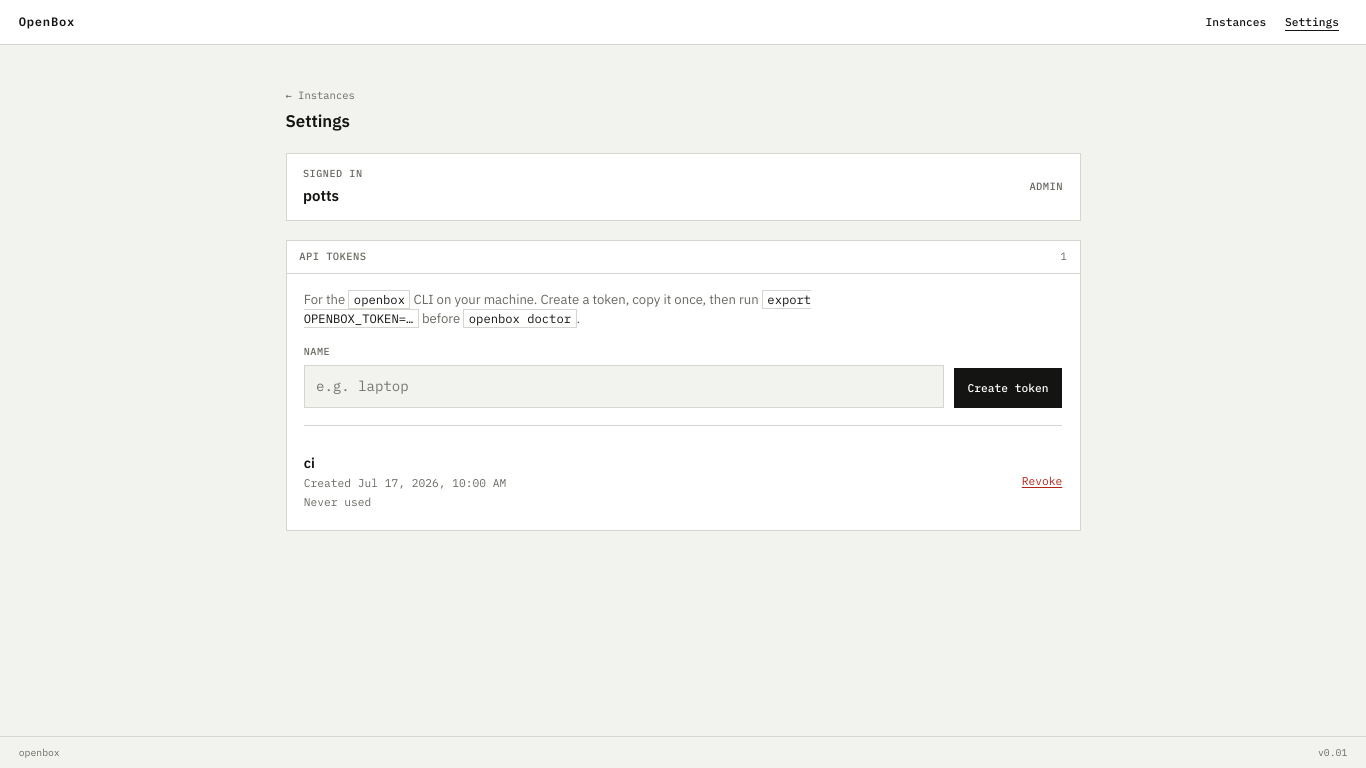
SettingsPage › revokes a listed token after confirm
Click the button "Revoke": (1042, 481) [1022,473,1062,490]
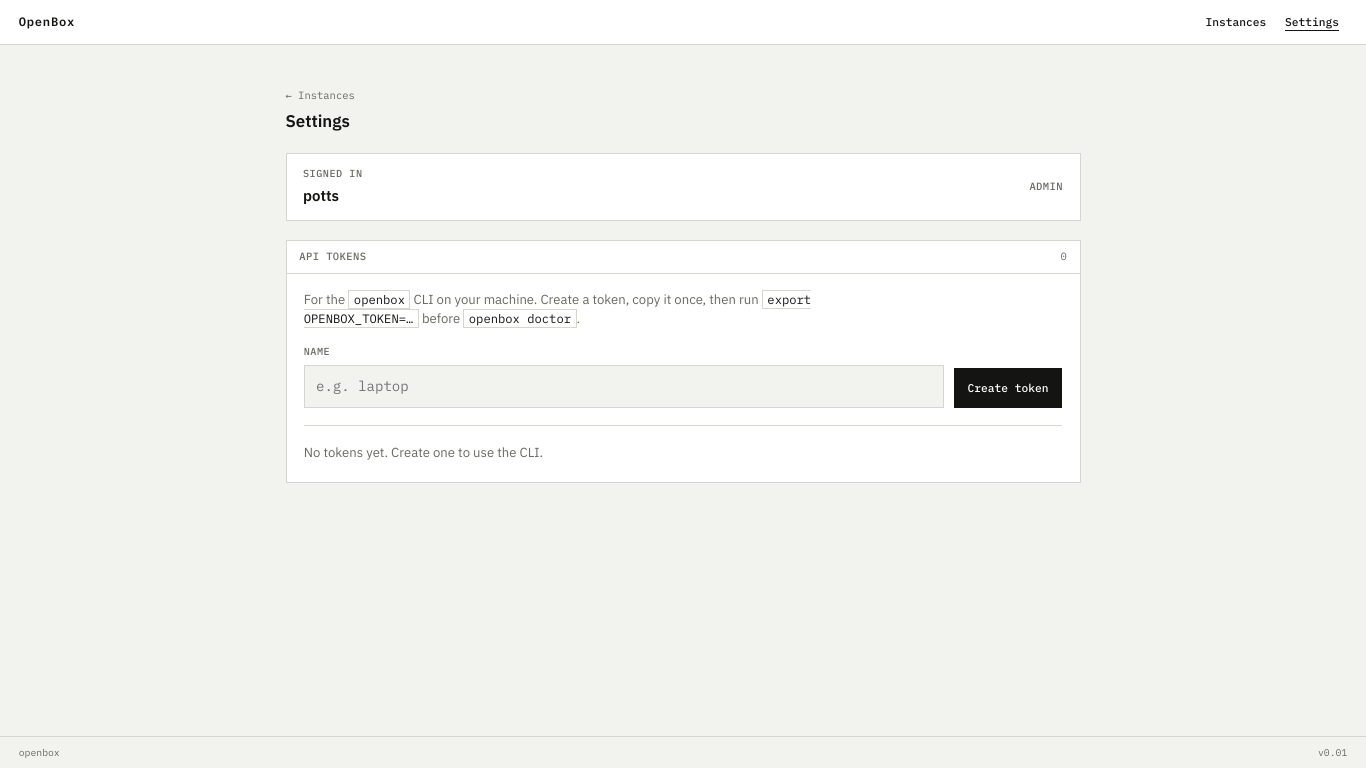
Result: the text "No tokens yet. Create one to use the CLI." is shown at [304,444,543,461]
